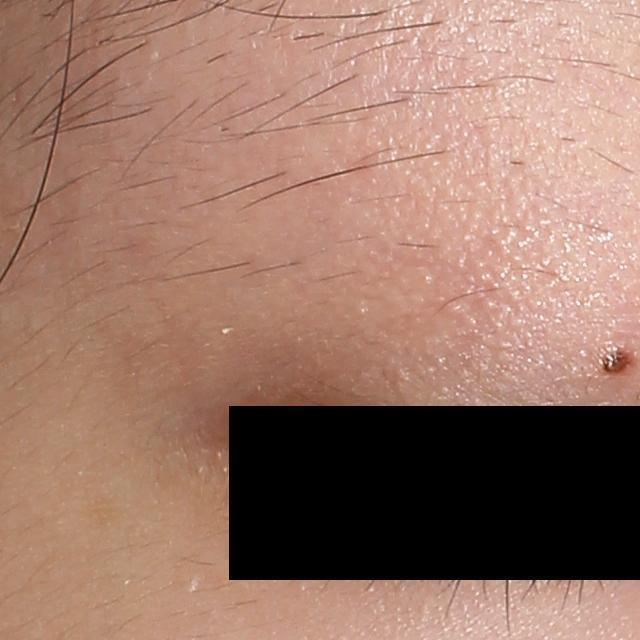nevus: (597, 345, 634, 374)
